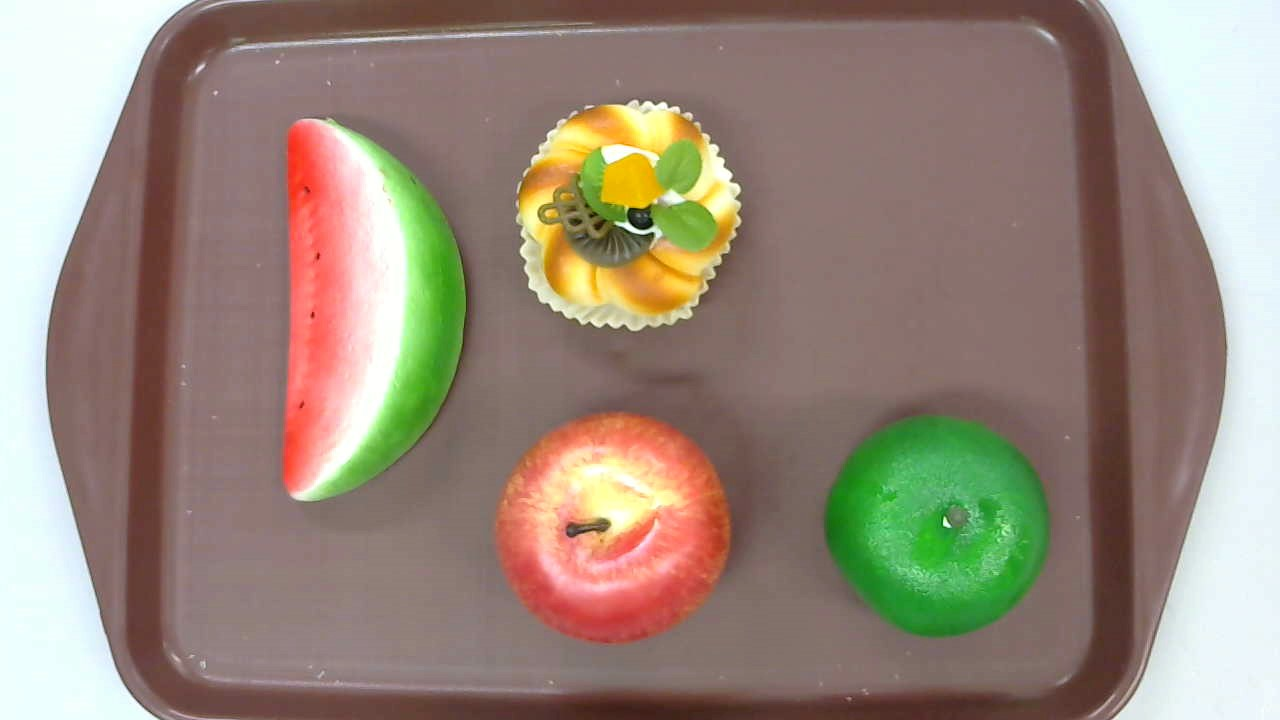fruit tart: (515, 99, 743, 334)
green orange: (825, 414, 1050, 638)
red apple: (494, 410, 731, 647)
water melon: (281, 117, 465, 500)
